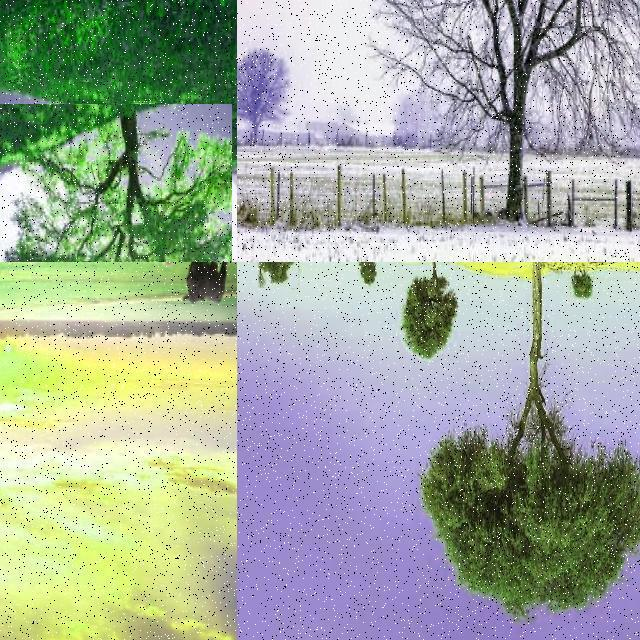tree: (424, 262, 640, 626), (348, 0, 640, 256), (0, 104, 232, 262), (238, 39, 294, 157), (401, 262, 459, 362), (258, 262, 298, 288), (571, 266, 593, 302), (359, 262, 377, 288)
